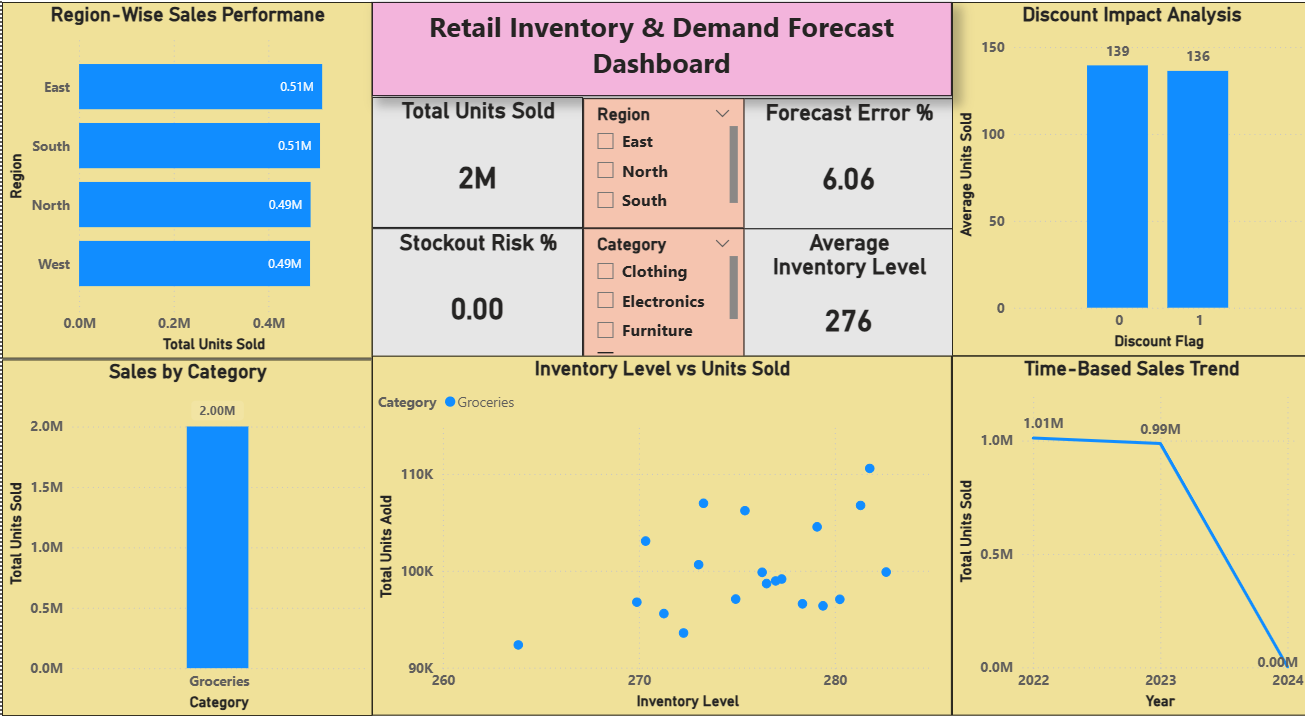

Layout of this report page (visuals, bound fields, positions):
{"tool":"powerbi","page":{"name":"Page 1","canvas":[1280,720],"ordinal":0},"visuals":[{"type":"card","title":"Total Units Sold","fields":{"Values":["Sum(cleaned_retail_inventory.Units Sold)"]},"box":[362,102.7,206.7,128.4],"z":0},{"type":"card","title":"Stockout Risk %","fields":{"Values":["cleaned_retail_inventory.Stockout %"]},"box":[362,231.1,206.7,128.4],"z":1},{"type":"card","title":" Average Inventory Level","fields":{"Values":["Avg(cleaned_retail_inventory.Inventory Level)"]},"box":[725.1,231.1,206.7,126],"z":2},{"type":"card","title":"Forecast Error %","fields":{"Values":["cleaned_retail_inventory.Forecast Error %"]},"box":[725.1,103.9,206.7,128.4],"z":3},{"type":"clusteredColumnChart","title":"Sales by Category","fields":{"Category":["cleaned_retail_inventory.Category"],"Y":["Sum(cleaned_retail_inventory.Units Sold)"]},"box":[0,359.2,362.1,349.1],"z":4},{"type":"barChart","title":"Region-Wise Sales Performane","fields":{"Category":["cleaned_retail_inventory.Region"],"Y":["Sum(cleaned_retail_inventory.Units Sold)"]},"box":[0,10.1,362.1,349.1],"z":5},{"type":"clusteredColumnChart","title":"Discount Impact Analysis","fields":{"Y":["cleaned_retail_inventory.Average Units Sold"],"Category":["cleaned_retail_inventory.Discount_Flag"]},"box":[929.1,10.1,350.6,346.3],"z":6},{"type":"lineChart","title":"Time-Based Sales Trend","fields":{"Category":["cleaned_retail_inventory.Date.Variation.Date Hierarchy.Year","cleaned_retail_inventory.Date.Variation.Date Hierarchy.Quarter","cleaned_retail_inventory.Date.Variation.Date Hierarchy.Month","cleaned_retail_inventory.Date.Variation.Date Hierarchy.Day"],"Y":["Sum(cleaned_retail_inventory.Units Sold)"]},"box":[929.1,356.4,350.6,352],"z":8},{"type":"textbox","box":[362.1,10.1,567,92.3],"z":10},{"type":"slicer","fields":{"Values":["cleaned_retail_inventory.Region"]},"box":[568.4,103.9,157.3,127],"z":11},{"type":"slicer","fields":{"Values":["cleaned_retail_inventory.Category"]},"box":[568.4,230.8,157.3,128.4],"z":12},{"type":"scatterChart","title":"Inventory Level vs Units Sold","fields":{"Y":["Sum(cleaned_retail_inventory.Units Sold)"],"X":["Avg(cleaned_retail_inventory.Inventory Level)"],"Series":["cleaned_retail_inventory.Category"],"Category":["cleaned_retail_inventory.Product ID"]},"box":[362.1,356.4,567,352],"z":13}]}

Visuals, with their boxes in screenshot pixels (x1, y1, x2, y2), scaled from the page's 1280x720 canvas onto the 1305x716 screenshot:
"Total Units Sold" card: box=[369, 102, 580, 230]
"Stockout Risk %" card: box=[369, 230, 580, 358]
" Average Inventory Level" card: box=[739, 230, 950, 355]
"Forecast Error %" card: box=[739, 103, 950, 231]
"Sales by Category" clusteredColumnChart: box=[0, 357, 369, 704]
"Region-Wise Sales Performane" barChart: box=[0, 10, 369, 357]
"Discount Impact Analysis" clusteredColumnChart: box=[947, 10, 1304, 354]
"Time-Based Sales Trend" lineChart: box=[947, 354, 1304, 704]
textbox: box=[369, 10, 947, 102]
slicer - cleaned_retail_inventory.Region: box=[580, 103, 740, 230]
slicer - cleaned_retail_inventory.Category: box=[580, 230, 740, 357]
"Inventory Level vs Units Sold" scatterChart: box=[369, 354, 947, 704]
